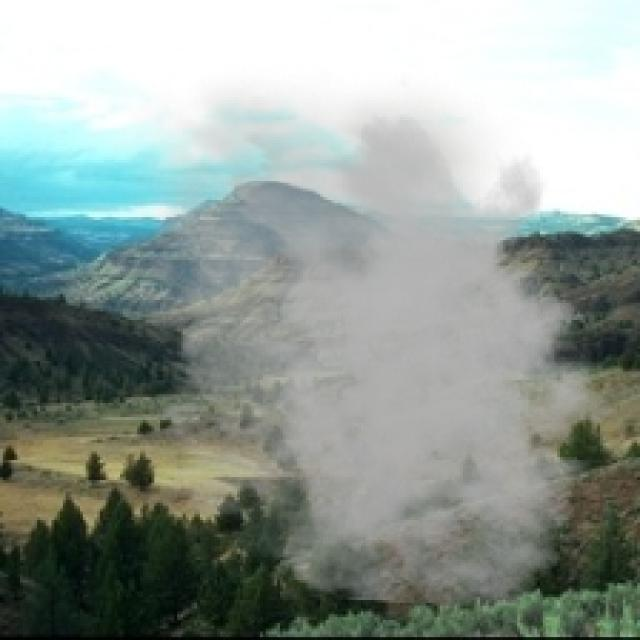smoke: (94, 63, 632, 614)
